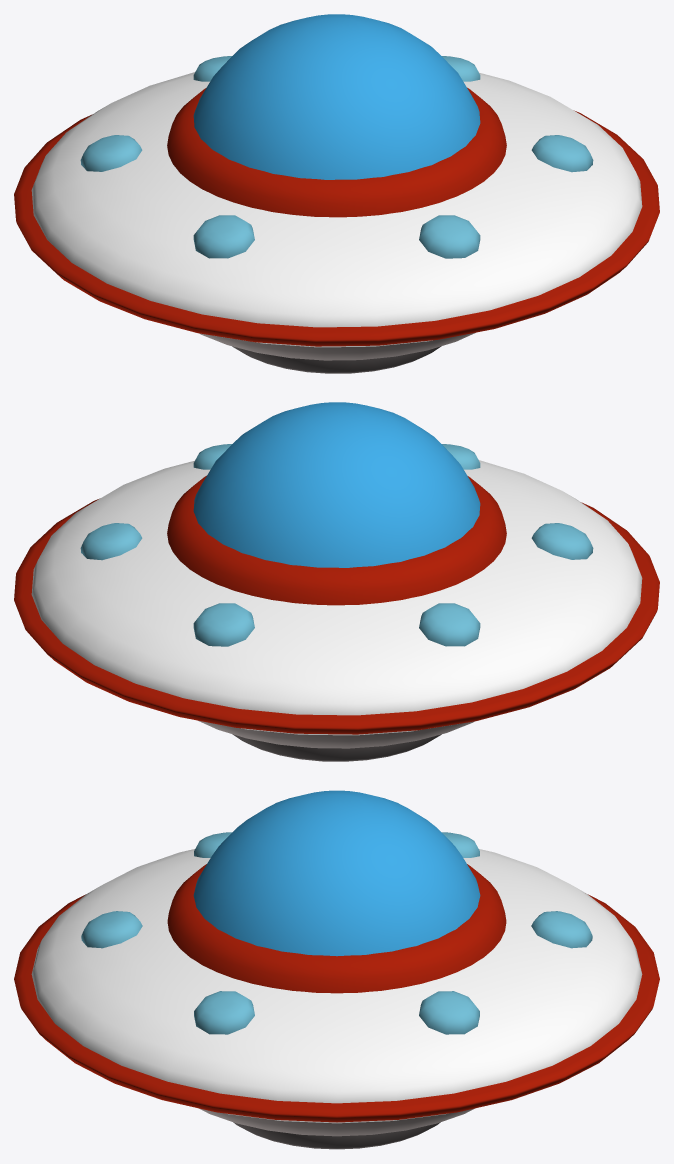
Rendered from ufo2.glb.
The picture shows the model from 3 angles, top to bottom: view 1: azimuth 30°, elevation 25°; view 2: azimuth 150°, elevation 25°; view 3: azimuth 270°, elevation 25°; orthographic projection.
Parts seen in each view (by area): view 1: ufo; view 2: ufo; view 3: ufo.
Boxes of the visible parts, x1,y1,x2,y2 form: ufo: (14, 14, 659, 373); ufo: (14, 402, 659, 761); ufo: (14, 790, 659, 1149).
Size of the model in its own units: 4.21 by 2.14 by 4.21.
